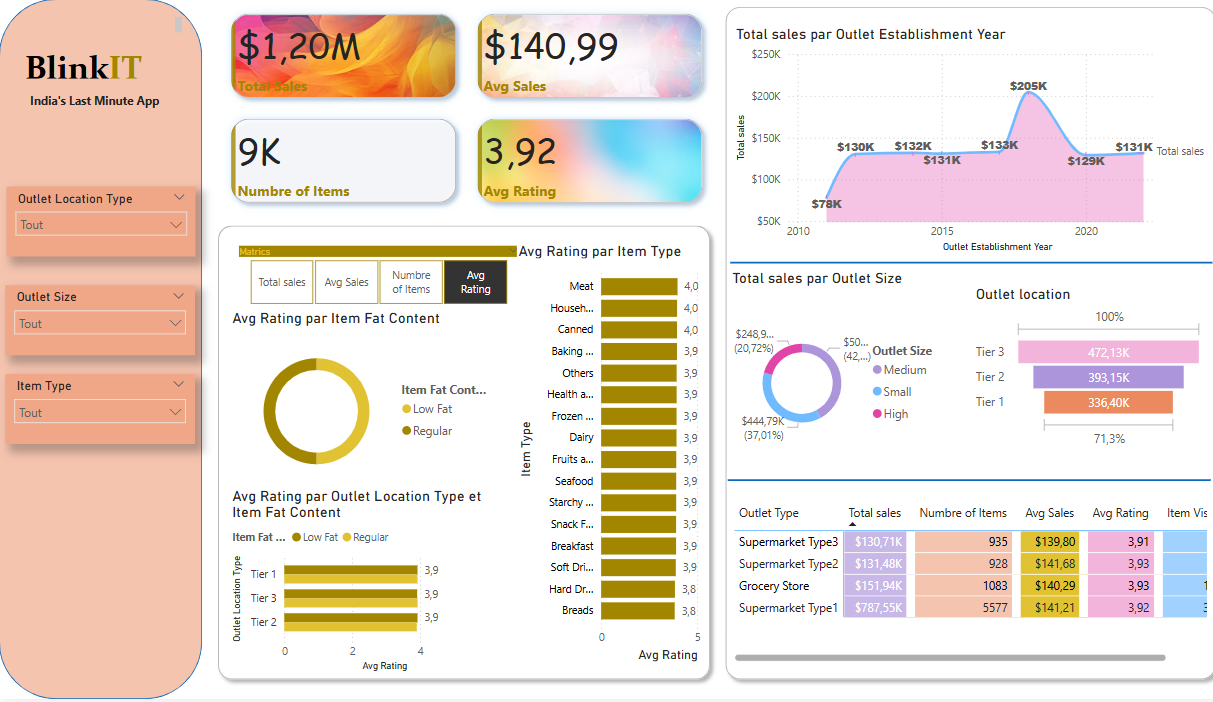

This screenshot's page, from the dashboard's own definition file:
{"tool":"powerbi","page":{"name":"Page 1","canvas":[1400,800],"ordinal":0},"visuals":[{"type":"shape","box":[0,0,232,800],"z":0},{"type":"textbox","box":[24,16,190,80],"z":1000},{"type":"textbox","box":[24,102,170,46],"z":2000},{"type":"cardVisual","fields":{"Data":["BlinkIT Grocery Data.Total sales","BlinkIT Grocery Data.Avg Sales","BlinkIT Grocery Data.Numbre of Items","BlinkIT Grocery Data.Avg Rating"]},"box":[248.3,0,573.3,250],"z":3000},{"type":"shape","box":[241.7,250,580,536.7],"z":4000},{"type":"donutChart","fields":{"Y":["BlinkIT Grocery Data.Avg Rating"],"Category":["BlinkIT Grocery Data.Item Fat Content"]},"box":[261.7,355,303.3,215],"z":5000},{"type":"slicer","fields":{"Values":["Matrics.Matrics"]},"box":[261.7,276.7,343.3,78.3],"z":6000},{"type":"clusteredBarChart","fields":{"Y":["BlinkIT Grocery Data.Avg Rating"],"Category":["BlinkIT Grocery Data.Outlet Location Type"],"Series":["BlinkIT Grocery Data.Item Fat Content"]},"box":[261.7,556.7,303.3,216.7],"z":7000},{"type":"barChart","fields":{"Y":["BlinkIT Grocery Data.Avg Rating"],"Category":["BlinkIT Grocery Data.Item Type"]},"box":[588.3,276.7,261.7,485],"z":8000},{"type":"shape","box":[821.7,0,578.3,786.7],"z":9000},{"type":"lineChart","fields":{"Category":["BlinkIT Grocery Data.Outlet Establishment Year"],"Y":["BlinkIT Grocery Data.Total sales"]},"box":[837,30,551,264],"z":10000},{"type":"shape","box":[835,294,551,14],"z":11000},{"type":"donutChart","fields":{"Y":["BlinkIT Grocery Data.Total sales"],"Category":["BlinkIT Grocery Data.Outlet Size"]},"box":[833,308,253,242],"z":12000},{"type":"funnel","title":"Outlet location","fields":{"Y":["Sum(BlinkIT Grocery Data.Sales)"],"Category":["BlinkIT Grocery Data.Outlet Location Type"]},"box":[1111,327,270,191],"z":13000},{"type":"shape","box":[833,543,552,14],"z":14000},{"type":"pivotTable","fields":{"Rows":["BlinkIT Grocery Data.Outlet Type"],"Values":["BlinkIT Grocery Data.Total sales","BlinkIT Grocery Data.Numbre of Items","BlinkIT Grocery Data.Avg Sales","BlinkIT Grocery Data.Avg Rating","Sum(BlinkIT Grocery Data.Item Visibility)"]},"box":[835,570,550,192],"z":15000},{"type":"slicer","fields":{"Values":["BlinkIT Grocery Data.Outlet Location Type"]},"box":[8,214,216,80],"z":16000},{"type":"slicer","fields":{"Values":["BlinkIT Grocery Data.Outlet Size"]},"box":[6.7,326.7,216.7,80],"z":17000},{"type":"slicer","fields":{"Values":["BlinkIT Grocery Data.Item Type"]},"box":[6.7,428.9,216.7,80],"z":18000}]}

Visuals, with their boxes in screenshot pixels (x1, y1, x2, y2), scaled from the page's 1400x800 canvas onto the 1213x702 screenshot:
shape: [0, 0, 201, 701]
textbox: [21, 14, 185, 84]
textbox: [21, 90, 168, 130]
cardVisual - BlinkIT Grocery Data.Total sales x BlinkIT Grocery Data.Avg Sales: [215, 0, 712, 219]
shape: [209, 219, 712, 690]
donutChart - BlinkIT Grocery Data.Avg Rating x BlinkIT Grocery Data.Item Fat Content: [227, 312, 490, 500]
slicer - Matrics.Matrics: [227, 243, 524, 312]
clusteredBarChart - BlinkIT Grocery Data.Avg Rating x BlinkIT Grocery Data.Outlet Location Type: [227, 489, 490, 679]
barChart - BlinkIT Grocery Data.Avg Rating x BlinkIT Grocery Data.Item Type: [510, 243, 736, 668]
shape: [712, 0, 1212, 690]
lineChart - BlinkIT Grocery Data.Outlet Establishment Year x BlinkIT Grocery Data.Total sales: [725, 26, 1203, 258]
shape: [723, 258, 1201, 270]
donutChart - BlinkIT Grocery Data.Total sales x BlinkIT Grocery Data.Outlet Size: [722, 270, 941, 483]
"Outlet location" funnel: [963, 287, 1197, 455]
shape: [722, 476, 1200, 489]
pivotTable - BlinkIT Grocery Data.Outlet Type x BlinkIT Grocery Data.Total sales: [723, 500, 1200, 669]
slicer - BlinkIT Grocery Data.Outlet Location Type: [7, 188, 194, 258]
slicer - BlinkIT Grocery Data.Outlet Size: [6, 287, 194, 357]
slicer - BlinkIT Grocery Data.Item Type: [6, 376, 194, 447]
